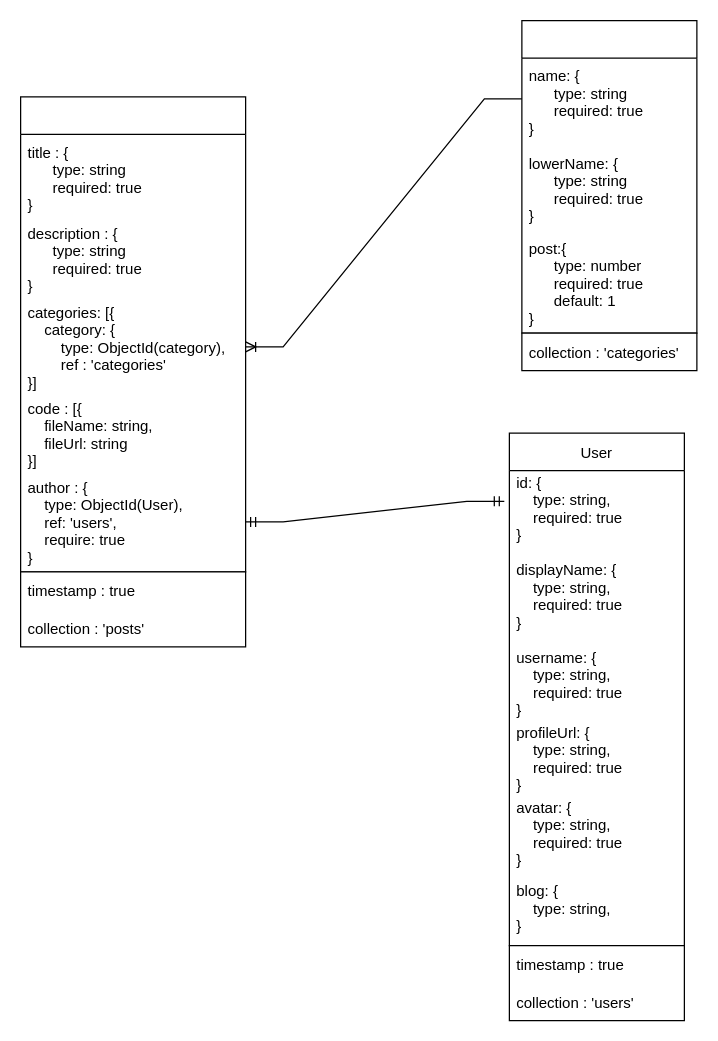
This 718x1041 diagram has some shape labels left out. Each missing label, with the box of its shape:
category: (521, 19, 697, 333)
post: (19, 96, 246, 572)
